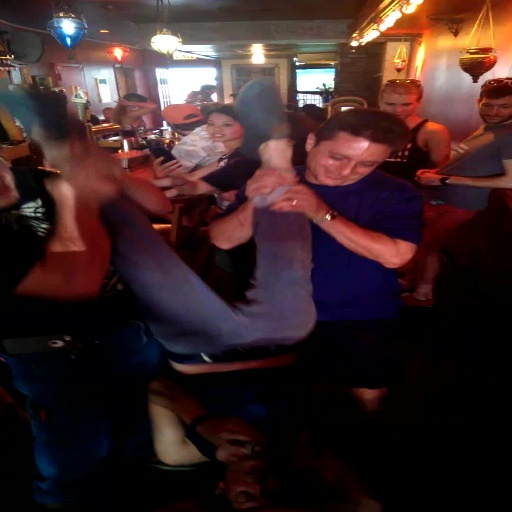hand: (45, 174, 121, 206), (264, 182, 328, 219), (84, 151, 128, 178), (149, 156, 182, 178), (417, 172, 441, 185), (115, 97, 129, 106), (417, 167, 437, 173)
